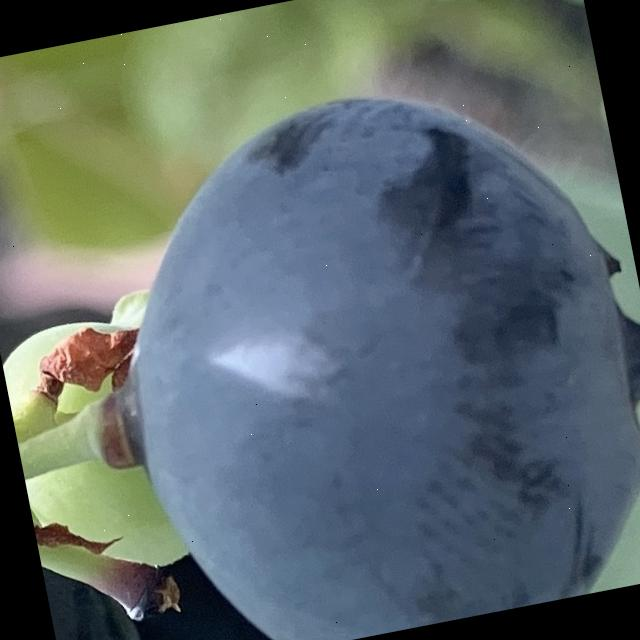Blueberries: (35, 36, 640, 640)
